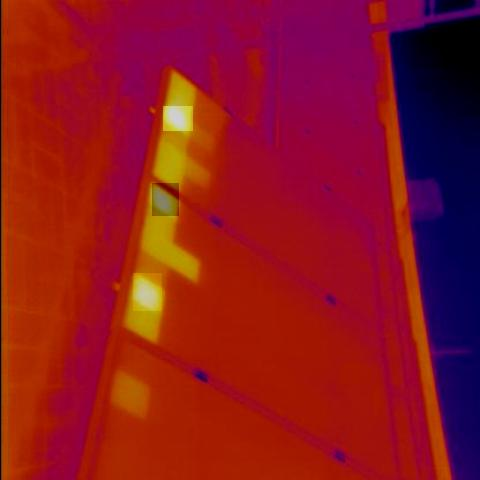fault: (133, 274, 162, 312), (152, 183, 179, 216), (164, 106, 194, 131)
